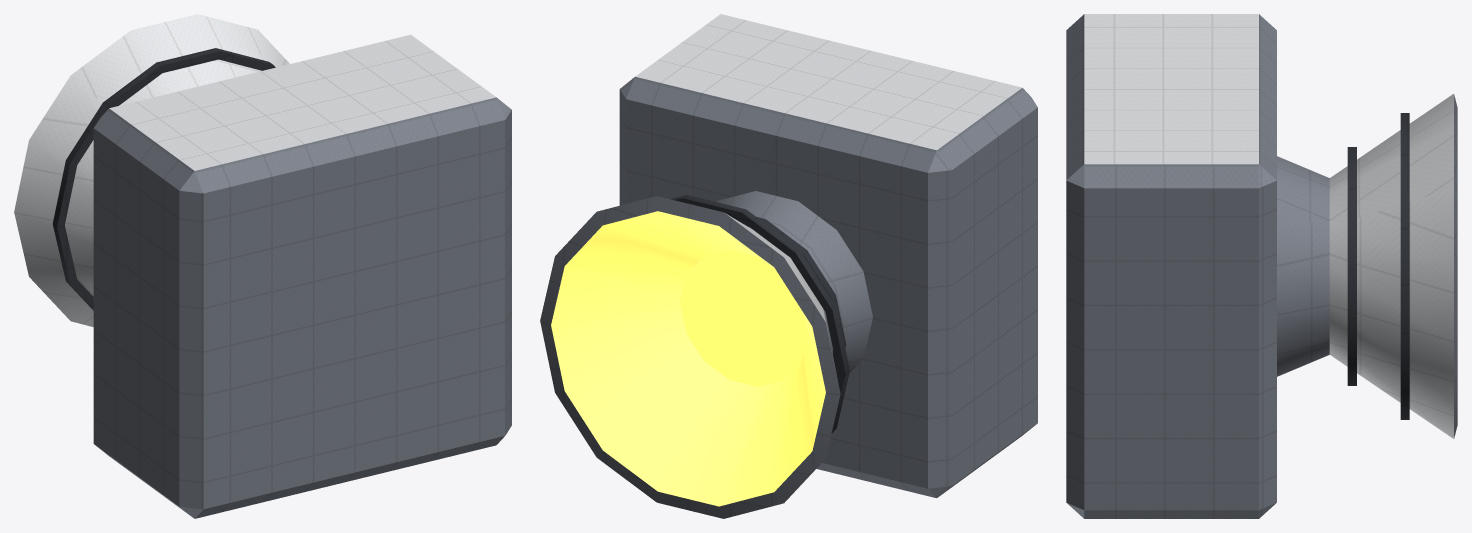
File: R4X_Booster_LOD1.glb
The picture shows the model from 3 angles, left to right: view 1: azimuth 30°, elevation 25°; view 2: azimuth 150°, elevation 25°; view 3: azimuth 270°, elevation 25°; orthographic projection.
Visible parts, largest first — view 1: R4X_Booster_LOD1; view 2: R4X_Booster_LOD1; view 3: R4X_Booster_LOD1.
Part boxes in pixels (x1,y1,x2,y2): R4X_Booster_LOD1: (14,14,511,518); R4X_Booster_LOD1: (540,14,1037,518); R4X_Booster_LOD1: (1066,14,1457,518).
Bounding box in the file's own units: 0.52 × 0.52 × 0.52.
Materials: 4 (3 with a texture image).
